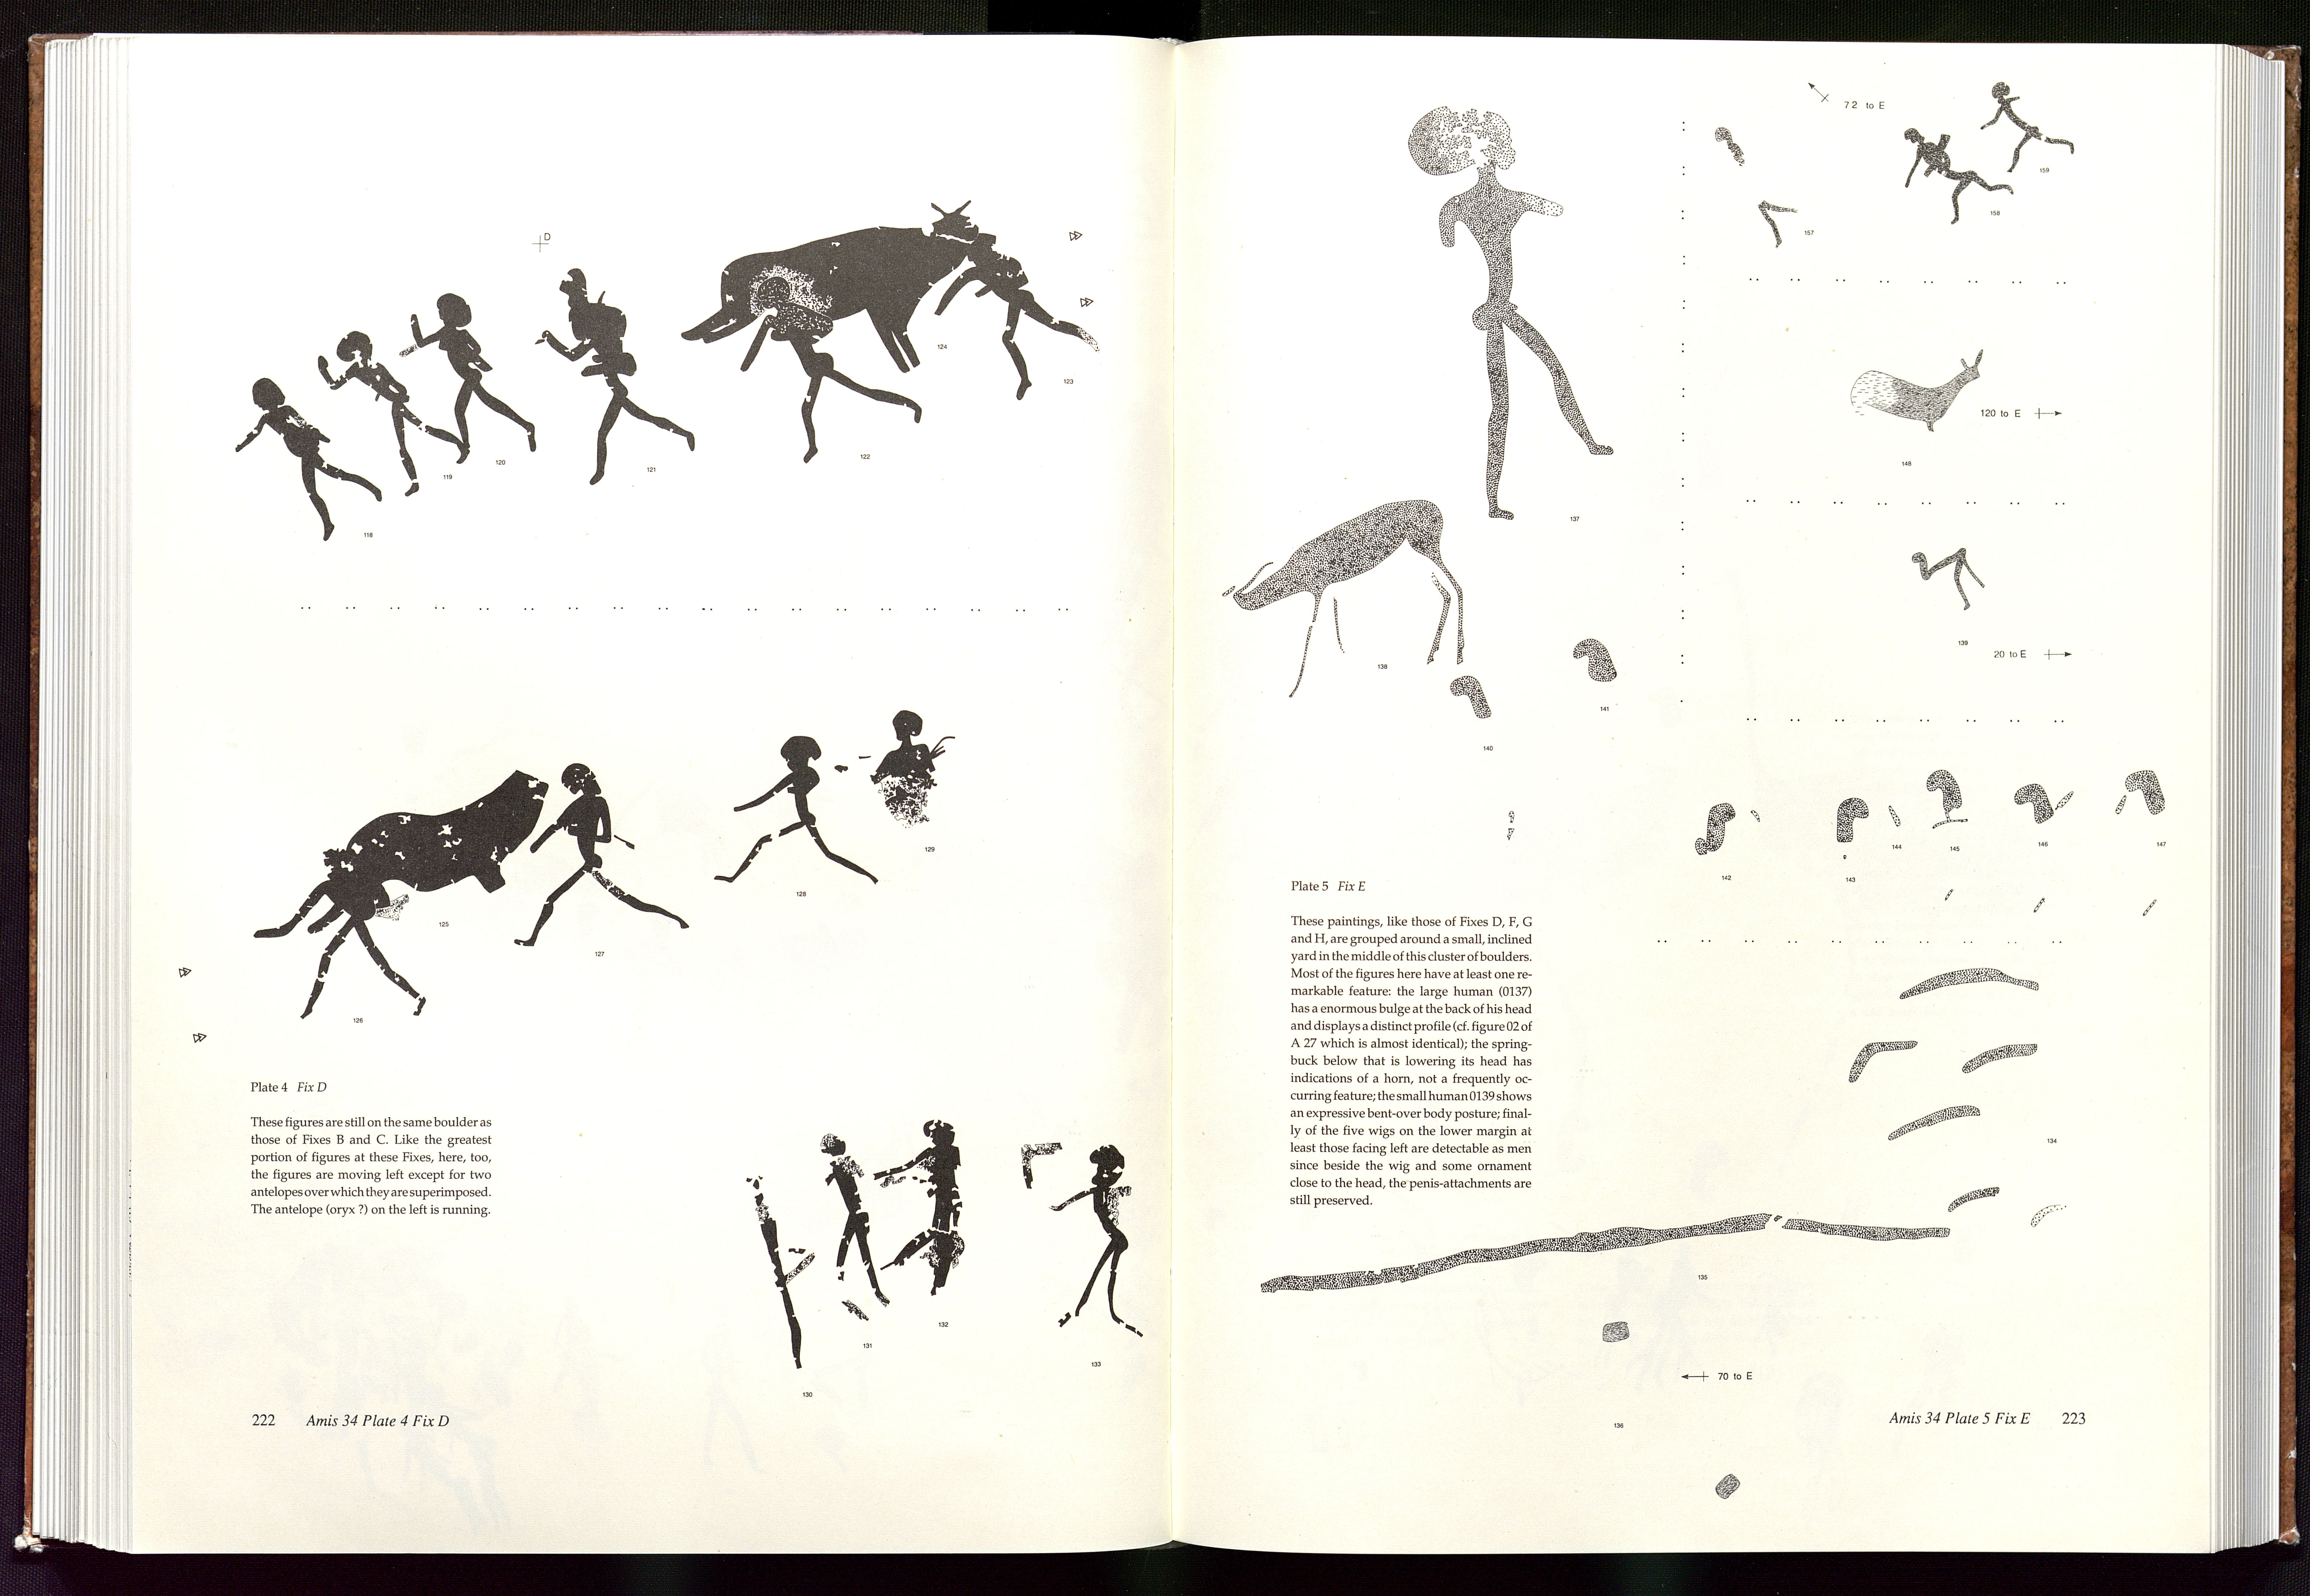animal: (689, 210, 1009, 384), (1220, 492, 1492, 691), (284, 767, 552, 912), (1851, 345, 1993, 448)
human: (1396, 90, 1623, 524), (540, 259, 697, 490), (505, 762, 694, 951), (397, 293, 547, 480), (709, 733, 879, 892), (228, 372, 378, 541), (319, 333, 471, 497), (1048, 1143, 1146, 1349), (881, 1118, 974, 1302), (810, 1136, 891, 1312), (1893, 116, 2013, 232), (871, 708, 952, 846), (1988, 70, 2074, 193)
